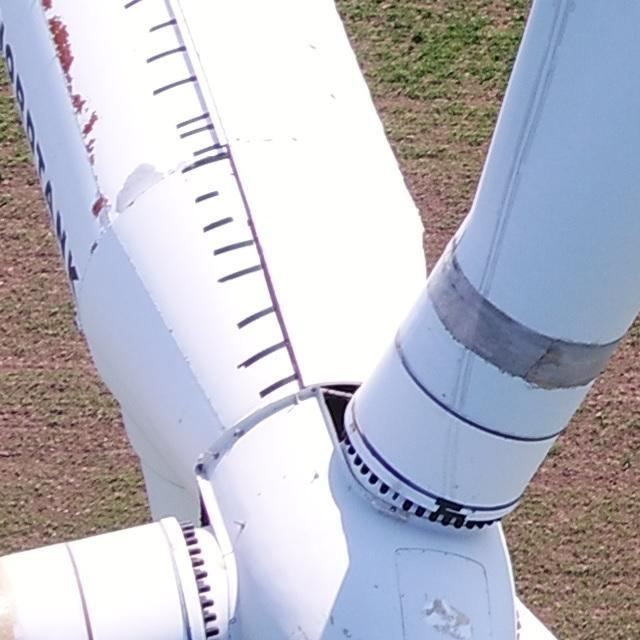damage: (114, 163, 170, 215), (46, 15, 76, 73), (427, 604, 475, 638), (422, 596, 450, 621), (81, 109, 100, 137), (67, 94, 88, 116), (92, 192, 108, 218), (36, 1, 55, 13), (83, 137, 97, 153), (88, 241, 98, 256), (85, 153, 97, 164), (64, 83, 75, 93), (63, 74, 75, 82)
